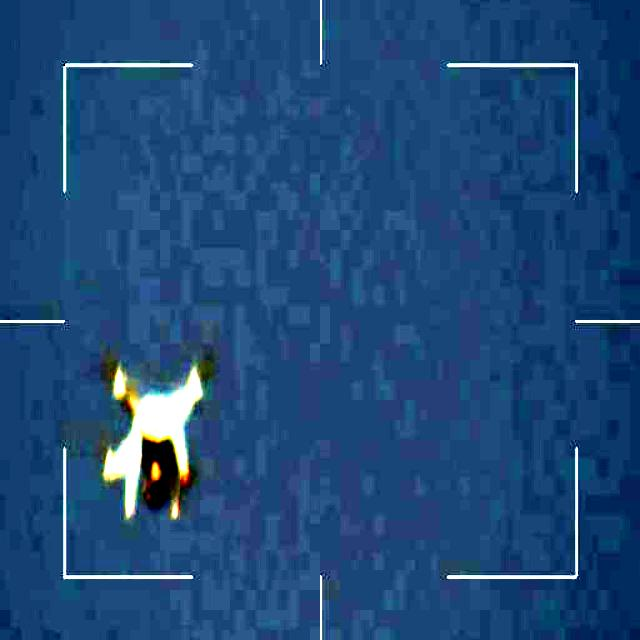bird: (92, 359, 206, 522)
